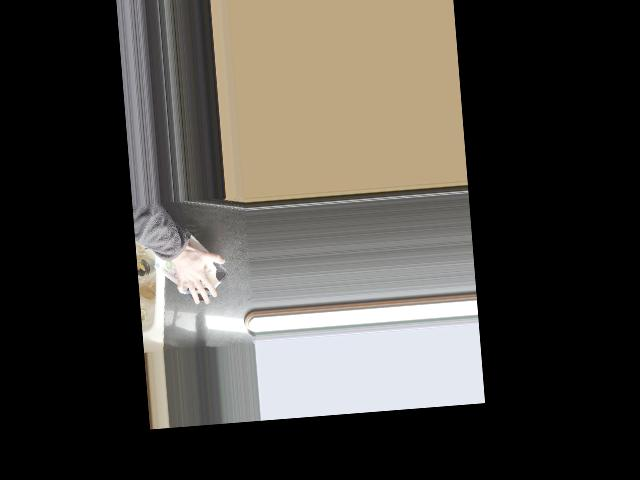cheese: (149, 226, 230, 307)
